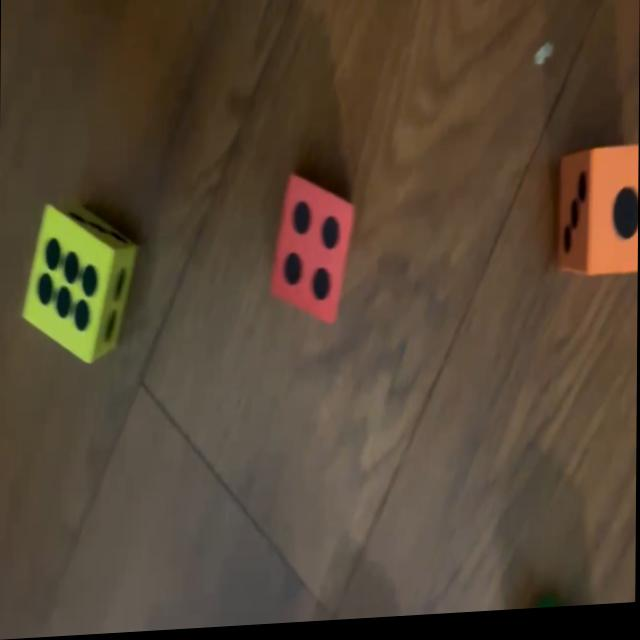cube: (271, 178, 354, 330)
